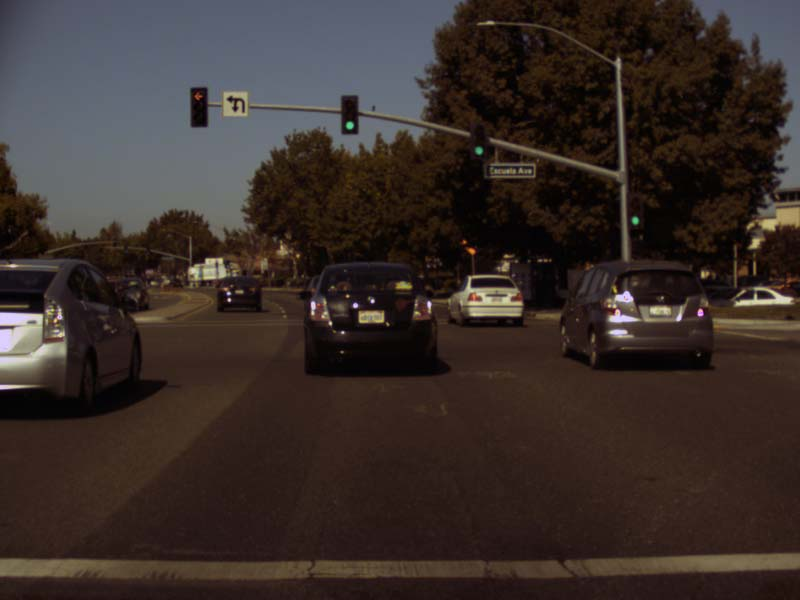Green: (340, 95, 358, 134), (470, 124, 485, 157), (627, 194, 642, 227)
Red: (189, 87, 208, 126)
